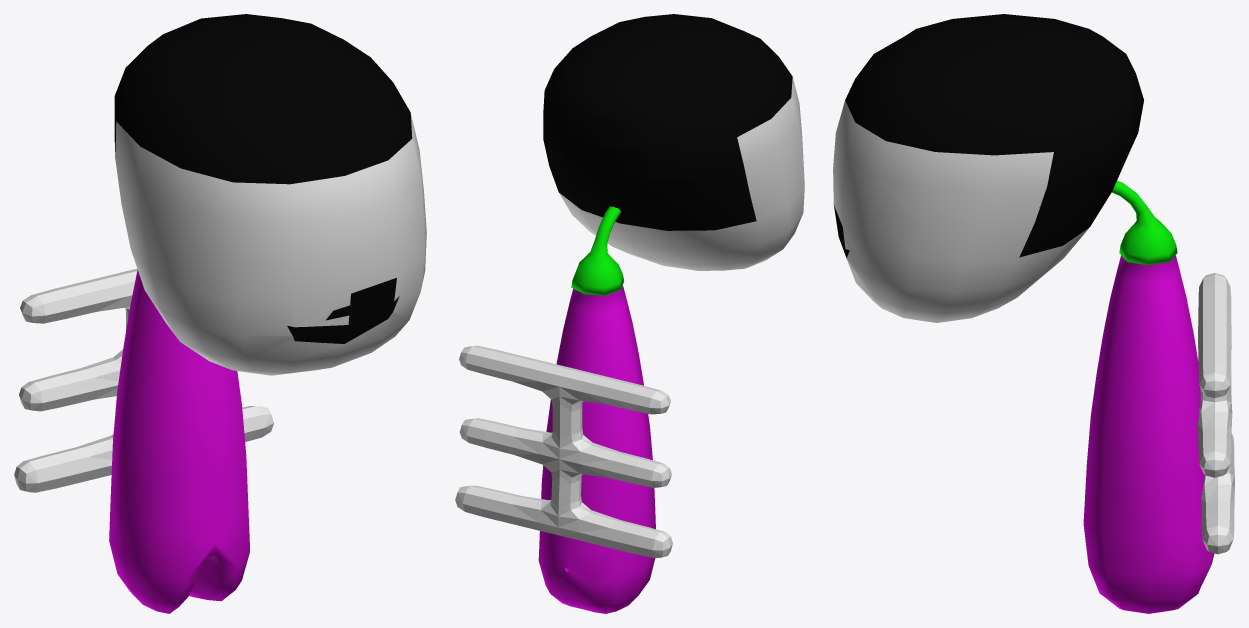
The model's file is giton.fbx.
3 views of the same model, side by side, from view 1: azimuth 30°, elevation 25°; view 2: azimuth 150°, elevation 25°; view 3: azimuth 270°, elevation 25° (orthographic). The views are drawn at different scales.
Parts seen in each view (by area): view 1: Cube.001, Cube, Cube.002; view 2: Cube.001, Cube, Cube.002; view 3: Cube.001, Cube, Cube.002.
Part boxes in pixels (x1=…): Cube.001: x1=114, y1=14, x2=426, y2=375; Cube: x1=109, y1=270, x2=249, y2=613; Cube.002: x1=14, y1=268, x2=273, y2=492; Cube.001: x1=543, y1=14, x2=804, y2=270; Cube: x1=538, y1=206, x2=655, y2=613; Cube.002: x1=455, y1=345, x2=672, y2=558; Cube.001: x1=833, y1=14, x2=1143, y2=322; Cube: x1=1083, y1=180, x2=1214, y2=613; Cube.002: x1=1198, y1=273, x2=1234, y2=554.
Size of the model in its own units: 82.14 by 187 by 120.
